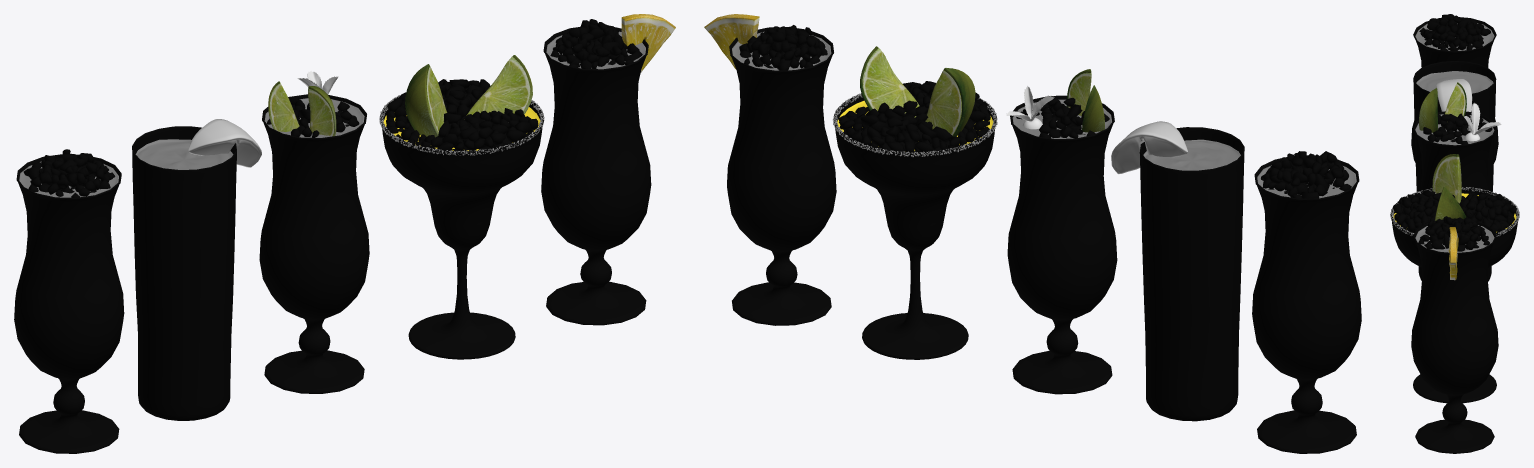
Rendered from AM195_009_Vray_.fbx.
3 views of the same model, side by side, from view 1: azimuth 30°, elevation 25°; view 2: azimuth 150°, elevation 25°; view 3: azimuth 270°, elevation 25° (orthographic). The views are drawn at different scales.
Visible parts, largest first — view 1: AM195_009_07, AM195_009_35, AM195_009_32, AM195_009_16, AM195_009_13, AM195_009_09, AM195_009_36, AM195_009_38, AM195_009_10, AM195_009_11, AM195_009_00, AM195_009_08 (+5 smaller); view 2: AM195_009_07, AM195_009_32, AM195_009_16, AM195_009_35, AM195_009_13, AM195_009_09, AM195_009_36, AM195_009_38, AM195_009_10, AM195_009_00, AM195_009_11, AM195_009_08 (+5 smaller); view 3: AM195_009_16, AM195_009_09, AM195_009_13, AM195_009_32, AM195_009_07, AM195_009_36, AM195_009_38, AM195_009_35, AM195_009_37, AM195_009_10, AM195_009_08, AM195_009_00 (+9 smaller).
Boxes of the visible parts, box(x1,y1,x2,y2) form: AM195_009_07: box(132, 126, 236, 420); AM195_009_35: box(14, 154, 124, 453); AM195_009_32: box(259, 94, 369, 393); AM195_009_16: box(541, 27, 651, 325); AM195_009_13: box(380, 85, 543, 359); AM195_009_09: box(386, 79, 538, 151); AM195_009_36: box(23, 149, 115, 197); AM195_009_38: box(550, 19, 642, 68); AM195_009_10: box(405, 64, 447, 137); AM195_009_11: box(464, 55, 532, 119); AM195_009_00: box(188, 119, 261, 167); AM195_009_08: box(135, 139, 233, 169); AM195_009_07: box(1139, 127, 1244, 421); AM195_009_32: box(1007, 95, 1117, 394); AM195_009_16: box(727, 27, 836, 325); AM195_009_35: box(1252, 155, 1361, 453); AM195_009_13: box(834, 93, 996, 359); AM195_009_09: box(838, 81, 990, 152); AM195_009_36: box(1261, 151, 1351, 198); AM195_009_38: box(739, 25, 827, 70); AM195_009_10: box(925, 68, 975, 136); AM195_009_00: box(1111, 121, 1187, 174); AM195_009_11: box(860, 46, 919, 117); AM195_009_08: box(1143, 139, 1240, 170); AM195_009_16: box(1411, 218, 1498, 453); AM195_009_09: box(1393, 190, 1516, 233); AM195_009_13: box(1390, 187, 1518, 403); AM195_009_32: box(1413, 111, 1496, 267); AM195_009_07: box(1413, 61, 1496, 281); AM195_009_36: box(1419, 14, 1490, 51); AM195_009_38: box(1418, 216, 1489, 251); AM195_009_35: box(1411, 17, 1498, 162); AM195_009_37: box(1423, 113, 1492, 144); AM195_009_10: box(1432, 154, 1461, 203); AM195_009_08: box(1416, 71, 1493, 93); AM195_009_00: box(1436, 79, 1472, 111).
Size of the model in its own units: 48.04 by 21.11 by 10.56.
